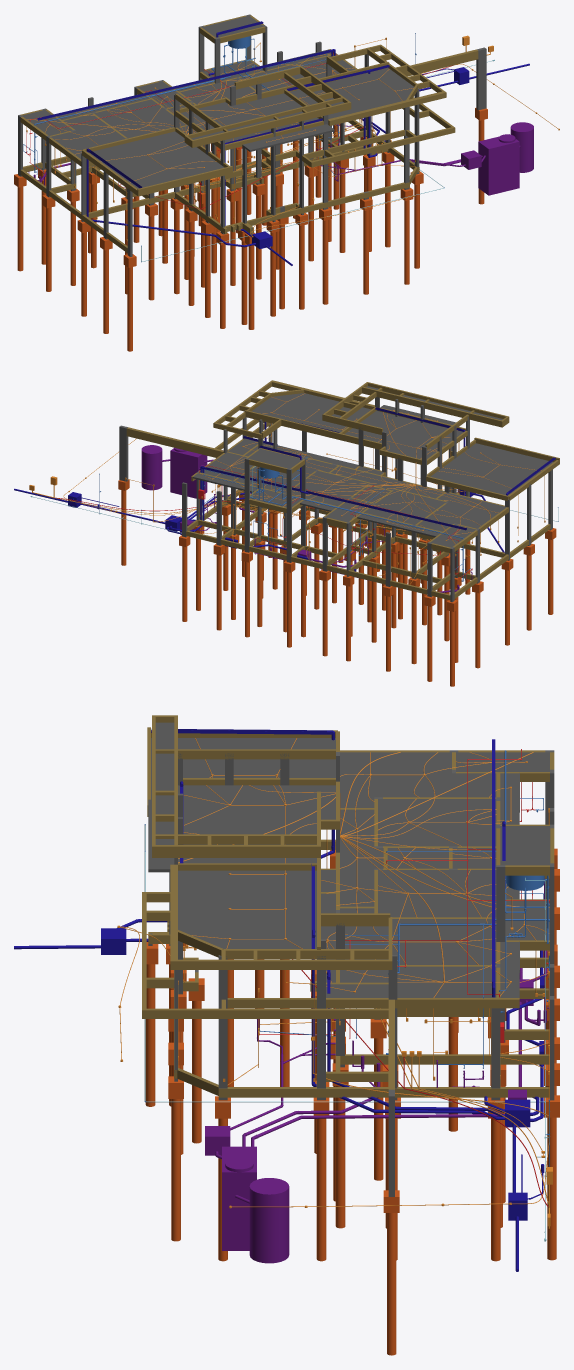
Rendered from modelo_3d.glb.
3 renders of one model, top to bottom at view 1: azimuth 30°, elevation 25°; view 2: azimuth 150°, elevation 25°; view 3: azimuth 270°, elevation 25°, orthographic. The views are drawn at different scales.
Visible parts, largest first — view 1: Object_104, Object_100, Object_98, Object_102, Object_9, Object_5, Object_4, Object_92, Object_3, Object_8; view 2: Object_98, Object_100, Object_104, Object_102, Object_9, Object_5, Object_4, Object_92, Object_52, Object_77, Object_3, Object_94 (+1 smaller); view 3: Object_98, Object_100, Object_104, Object_102, Object_9, Object_5, Object_4, Object_3, Object_57, Object_77, Object_8, Object_14 (+3 smaller).
Boxes of the visible parts, bbox=[...] form: Object_104: bbox=[14, 108, 487, 351]; Object_100: bbox=[20, 15, 478, 252]; Object_98: bbox=[22, 16, 413, 188]; Object_102: bbox=[18, 14, 486, 256]; Object_9: bbox=[28, 122, 533, 195]; Object_5: bbox=[37, 49, 469, 265]; Object_4: bbox=[86, 21, 445, 216]; Object_92: bbox=[96, 54, 382, 238]; Object_3: bbox=[216, 32, 529, 237]; Object_8: bbox=[317, 124, 482, 170]; Object_98: bbox=[193, 386, 553, 547]; Object_100: bbox=[126, 380, 559, 600]; Object_104: bbox=[118, 479, 556, 686]; Object_102: bbox=[119, 397, 552, 602]; Object_9: bbox=[141, 445, 368, 580]; Object_5: bbox=[68, 407, 504, 552]; Object_4: bbox=[76, 429, 555, 571]; Object_92: bbox=[199, 418, 544, 533]; Object_52: bbox=[54, 486, 468, 556]; Object_77: bbox=[63, 401, 473, 533]; Object_3: bbox=[14, 422, 465, 549]; Object_94: bbox=[112, 452, 481, 576]; Object_98: bbox=[148, 722, 550, 997]; Object_100: bbox=[142, 715, 554, 1097]; Object_104: bbox=[145, 848, 559, 1355]; Object_102: bbox=[148, 750, 554, 1196]; Object_9: bbox=[218, 882, 547, 1263]; Object_5: bbox=[14, 739, 544, 1220]; Object_4: bbox=[151, 729, 544, 1191]; Object_3: bbox=[126, 821, 544, 1271]; Object_57: bbox=[178, 752, 549, 1056]; Object_77: bbox=[228, 762, 549, 1204]; Object_8: bbox=[205, 970, 522, 1157]; Object_14: bbox=[144, 852, 546, 1232].
Size of what is drawn, in the model's own units: 3096 by 1190 by 1720.
